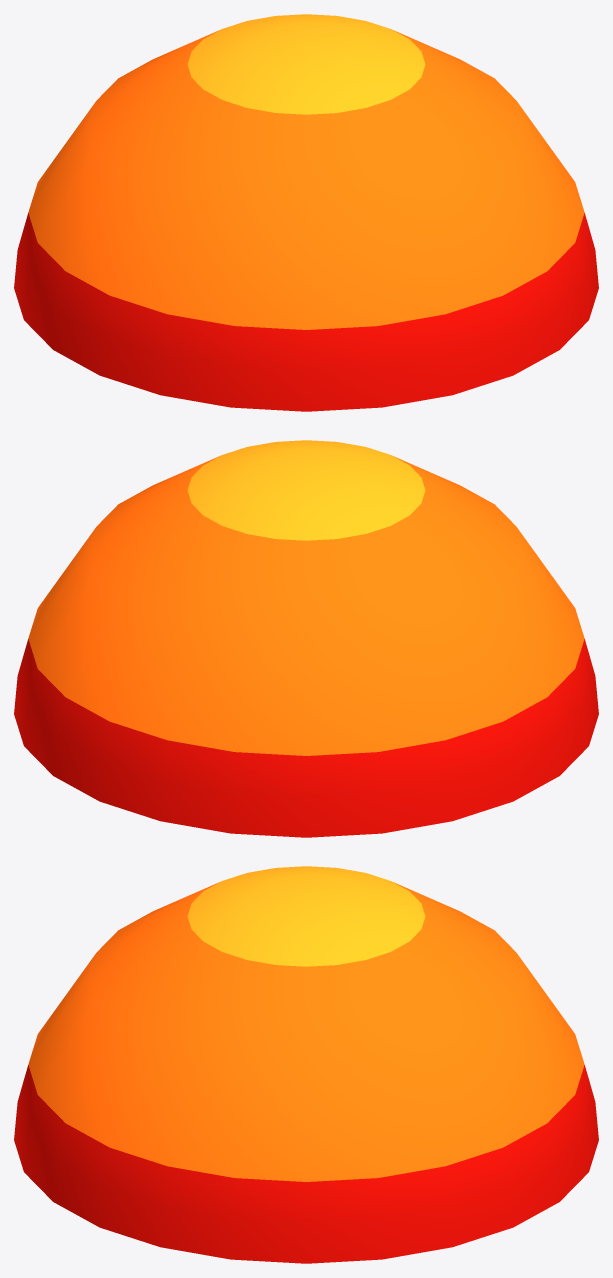
The model's file is shot_gum.glb.
3 renders of one model, top to bottom at view 1: azimuth 30°, elevation 25°; view 2: azimuth 150°, elevation 25°; view 3: azimuth 270°, elevation 25°, orthographic.
Parts seen in each view (by area): view 1: gum_ball; view 2: gum_ball; view 3: gum_ball.
Part boxes in pixels (box(x1,y1,x2,y2)): gum_ball: box(14, 14, 598, 411); gum_ball: box(14, 440, 598, 837); gum_ball: box(14, 866, 598, 1263).
Bounding box in the file's own units: 10.5 × 4.85 × 10.5.
